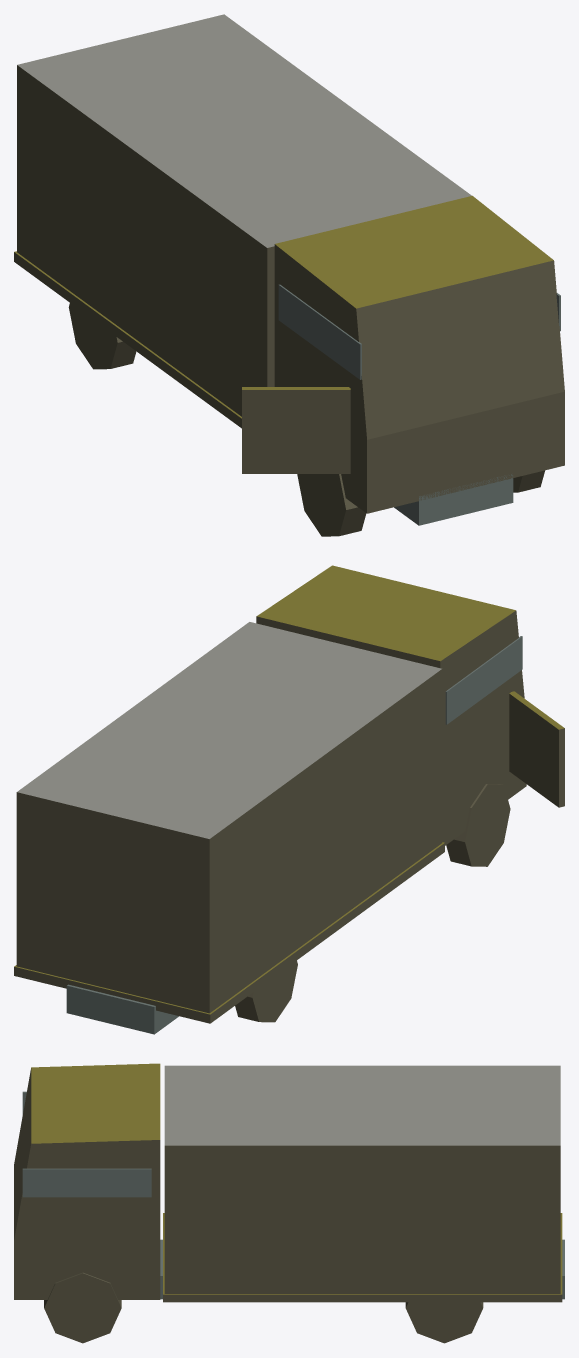
The model's file is SM_CocheCivil_Camion_v1_LOD1.fbx.
3 renders of one model, top to bottom at view 1: azimuth 30°, elevation 25°; view 2: azimuth 150°, elevation 25°; view 3: azimuth 270°, elevation 25°, orthographic. The views are drawn at different scales.
Visible parts, largest first — view 1: SM_coche_civil_v21_LOD1; view 2: SM_coche_civil_v21_LOD1; view 3: SM_coche_civil_v21_LOD1.
Part boxes in pixels (bbox=[...]): SM_coche_civil_v21_LOD1: bbox=[14, 14, 564, 536]; SM_coche_civil_v21_LOD1: bbox=[14, 565, 564, 1034]; SM_coche_civil_v21_LOD1: bbox=[14, 1063, 564, 1343].
Size of the model in its own units: 3.05 by 2.6 by 6.4.
